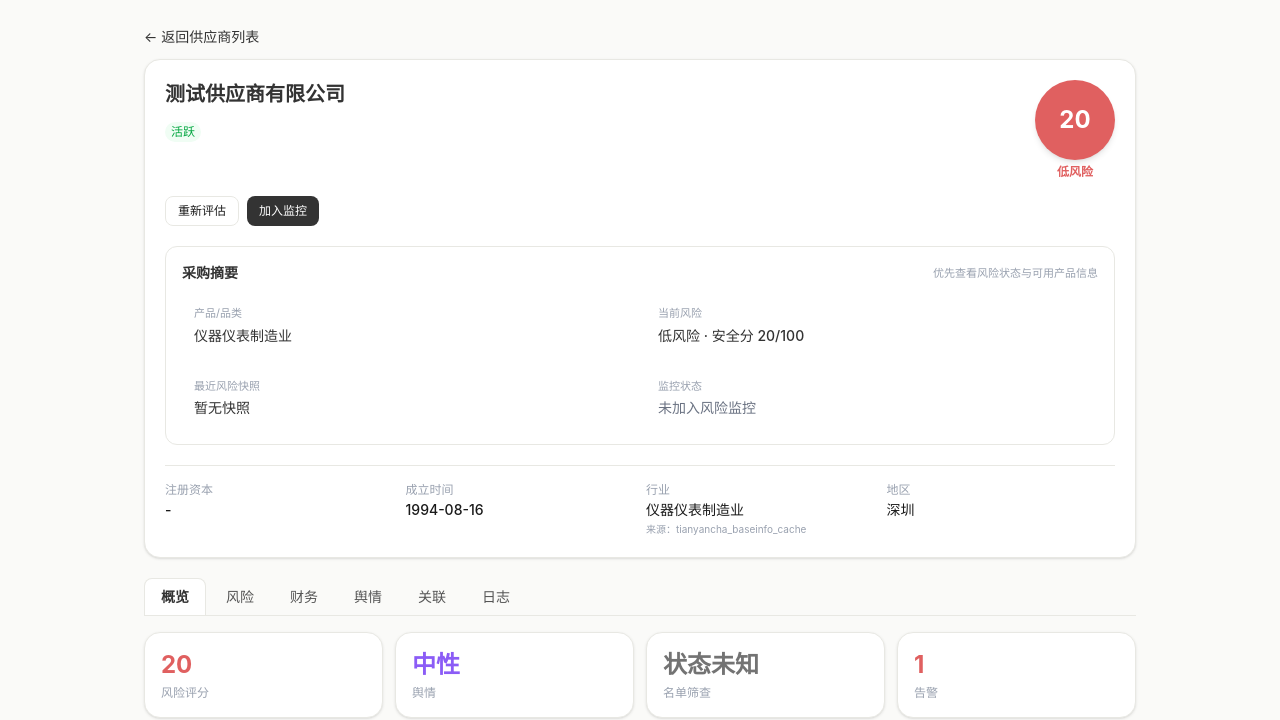
SupplierProfilePage › shows a clearly marked non-decision demo business risk result
The image size is (1280, 720).
Expected: the heading "测试供应商有限公司" is shown, [165, 82, 345, 106]
What coordinates should you click on to do the following:
click the button "风险"
I would click on:
 (240, 596)
Its box is [210, 578, 270, 615].
(page scrolled)
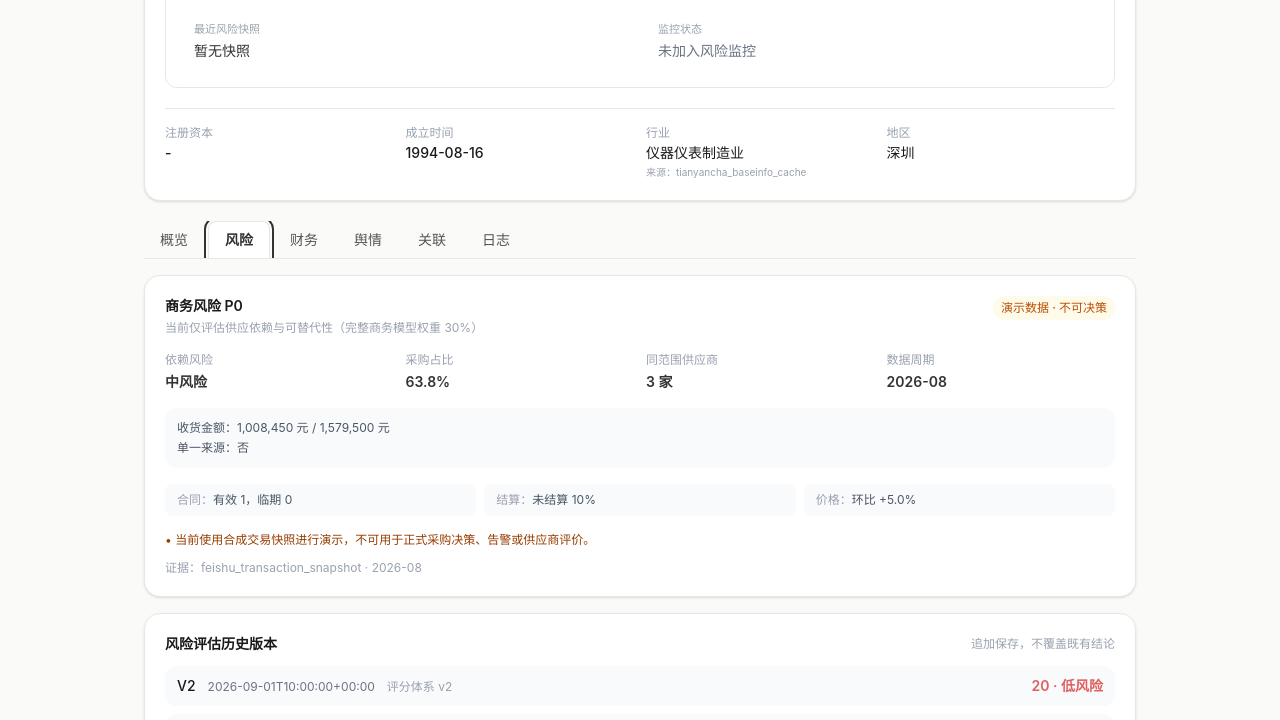
Expected: the heading "商务风险 P0" is shown, [165, 297, 243, 314]
Expected: the text "演示数据 · 不可决策" is shown, [993, 296, 1115, 320]
Expected: the text "采购占比" is shown, [406, 352, 454, 367]
